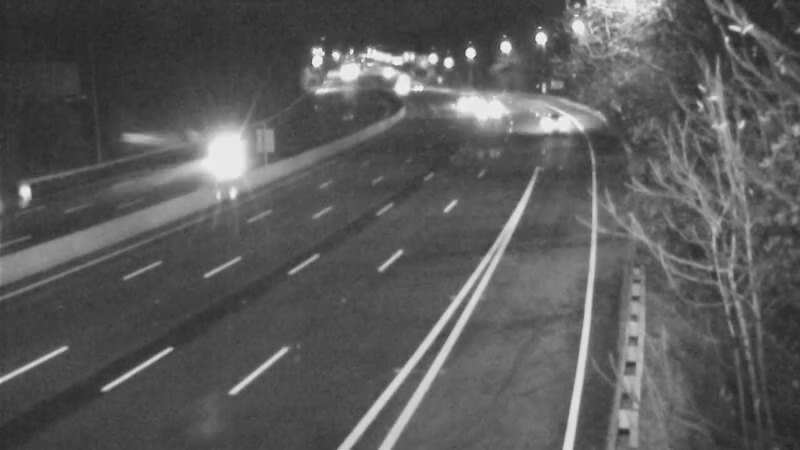vehicle: (188, 112, 268, 192), (1, 152, 68, 232), (394, 66, 444, 116), (373, 64, 423, 114), (436, 79, 486, 129), (460, 85, 510, 135), (523, 92, 573, 142)
